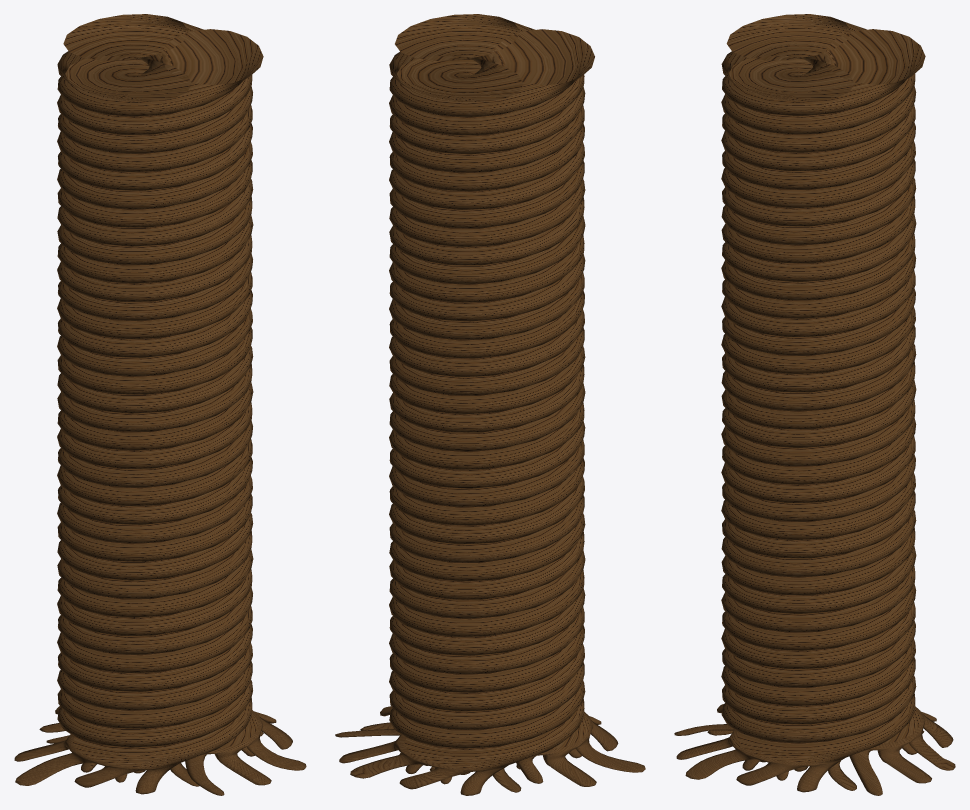
Rendered from rope_short.obj.
3 views of the same model, side by side, from view 1: azimuth 30°, elevation 25°; view 2: azimuth 150°, elevation 25°; view 3: azimuth 270°, elevation 25° (orthographic).
Visible parts, largest first — view 1: Rope1_Cylinder.001; view 2: Rope1_Cylinder.001; view 3: Rope1_Cylinder.001.
Boxes of the visible parts, left/top/right/bottom form: Rope1_Cylinder.001: left=14, top=14, right=306, bottom=795; Rope1_Cylinder.001: left=335, top=14, right=645, bottom=795; Rope1_Cylinder.001: left=674, top=14, right=955, bottom=795.
Size of the model in its own units: 0.4225 by 1.03 by 0.3839.
Materials: 2 (2 with a texture image).
